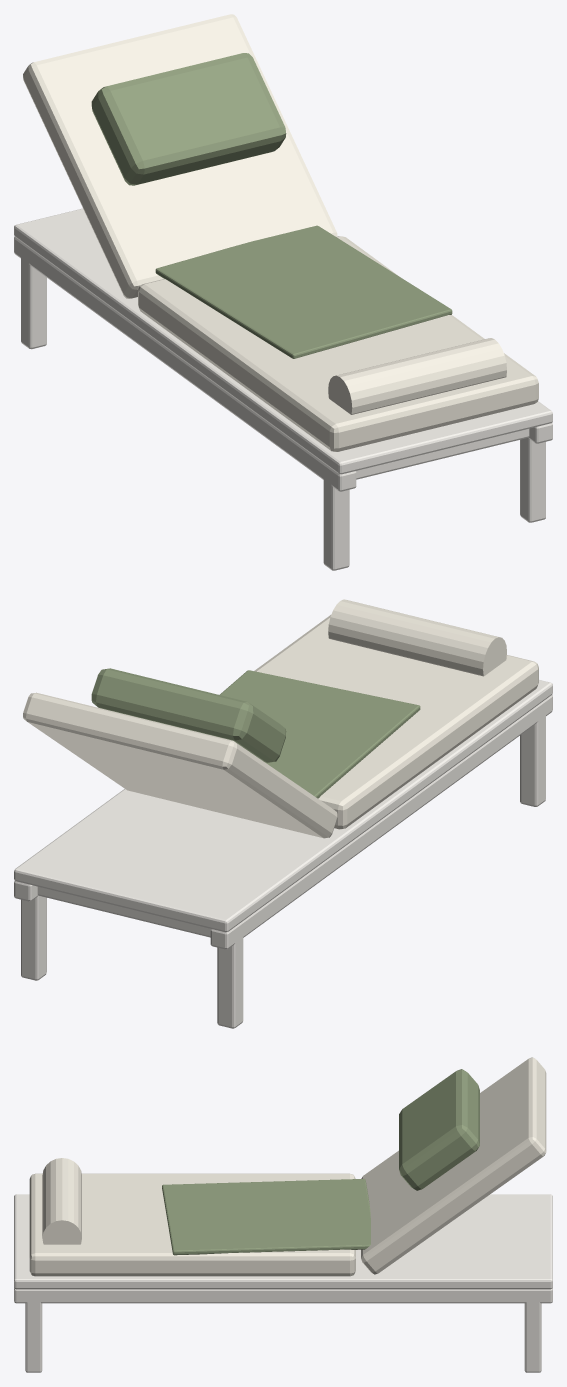
The model's file is lounger-white.glb.
The picture shows the model from 3 angles, top to bottom: view 1: azimuth 30°, elevation 25°; view 2: azimuth 150°, elevation 25°; view 3: azimuth 270°, elevation 25°; orthographic projection. The views are drawn at different scales.
Parts seen in each view (by area): view 1: backrest, cushion, throw, pillow, deck, towel-roll, rail, leg, leg.001, leg.002, cross; view 2: deck, cushion, backrest, throw, pillow, towel-roll, rail, leg.001, leg.003, leg, cross.001; view 3: deck, cushion, backrest, throw, rail.001, pillow, towel-roll, leg.002, leg.003.
Boxes of the visible parts, x1,y1,x2,y2 form: backrest: (23,14,337,298); cushion: (138,236,538,451); throw: (155,225,452,358); pillow: (91,53,286,185); deck: (14,208,552,474); towel-roll: (328,338,506,414); rail: (14,236,356,491); leg: (323,475,349,570); leg.001: (21,254,46,349); leg.002: (520,438,545,522); cross: (325,429,529,482); deck: (14,680,552,932); cushion: (254,615,538,829); backrest: (23,692,337,838); throw: (219,670,420,798); pillow: (91,668,286,762); towel-roll: (328,599,506,676); rail: (210,694,552,949); leg.001: (217,937,243,1028); leg.003: (21,895,46,980); leg: (520,715,545,806); cross.001: (37,886,243,937); deck: (14,1194,552,1289); cushion: (29,1173,355,1276); backrest: (361,1057,546,1274); throw: (162,1179,370,1255); rail.001: (14,1287,552,1303); pillow: (399,1069,479,1190); towel-roll: (42,1158,81,1244); leg.002: (25,1298,42,1372); leg.003: (524,1298,541,1372).
Size of the model in its own units: 0.72 by 0.9073 by 1.9.
